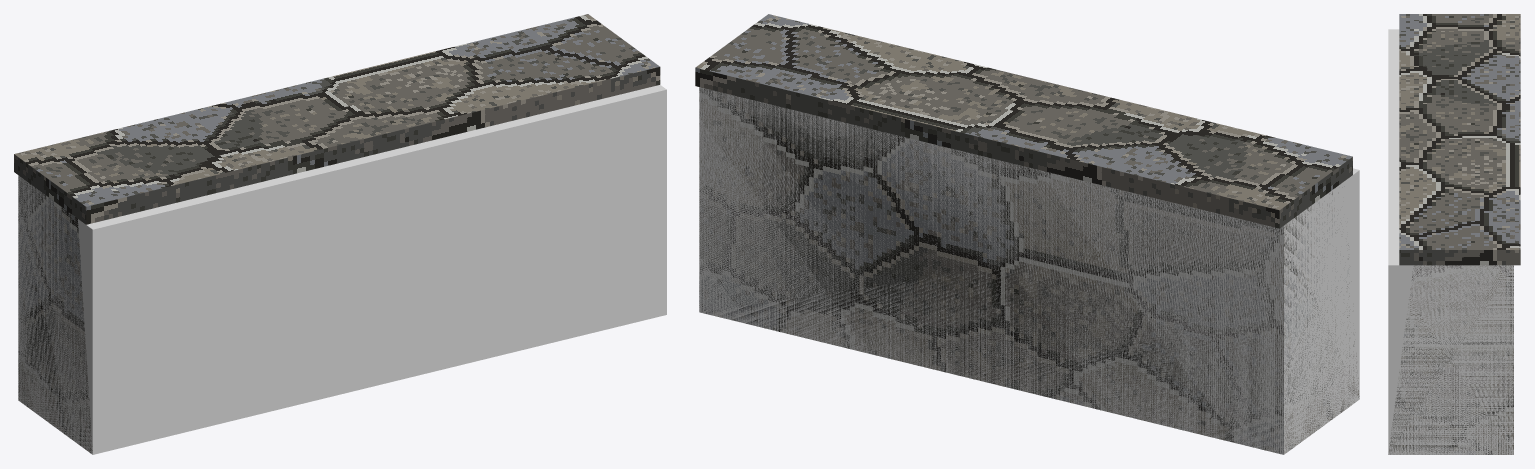
File: JP_Wall_Retaining_Granite_4m.glb
3 views of the same model, side by side, from view 1: azimuth 30°, elevation 25°; view 2: azimuth 150°, elevation 25°; view 3: azimuth 270°, elevation 25° (orthographic). The views are drawn at different scales.
Parts seen in each view (by area): view 1: COL_JP_Wall_Retaining_Granite_4m, JP_Wall_Retaining_Granite_4m; view 2: JP_Wall_Retaining_Granite_4m, COL_JP_Wall_Retaining_Granite_4m; view 3: JP_Wall_Retaining_Granite_4m, COL_JP_Wall_Retaining_Granite_4m.
Part boxes in pixels (left/top/right/bottom): COL_JP_Wall_Retaining_Granite_4m: left=18, top=85, right=666, bottom=454; JP_Wall_Retaining_Granite_4m: left=14, top=14, right=660, bottom=453; JP_Wall_Retaining_Granite_4m: left=695, top=14, right=1359, bottom=453; COL_JP_Wall_Retaining_Granite_4m: left=699, top=87, right=1359, bottom=454; JP_Wall_Retaining_Granite_4m: left=1388, top=14, right=1520, bottom=454; COL_JP_Wall_Retaining_Granite_4m: left=1388, top=29, right=1513, bottom=454.
Size of the model in its own units: 4 by 1.62 by 0.95.
1 material, 1 textured.
